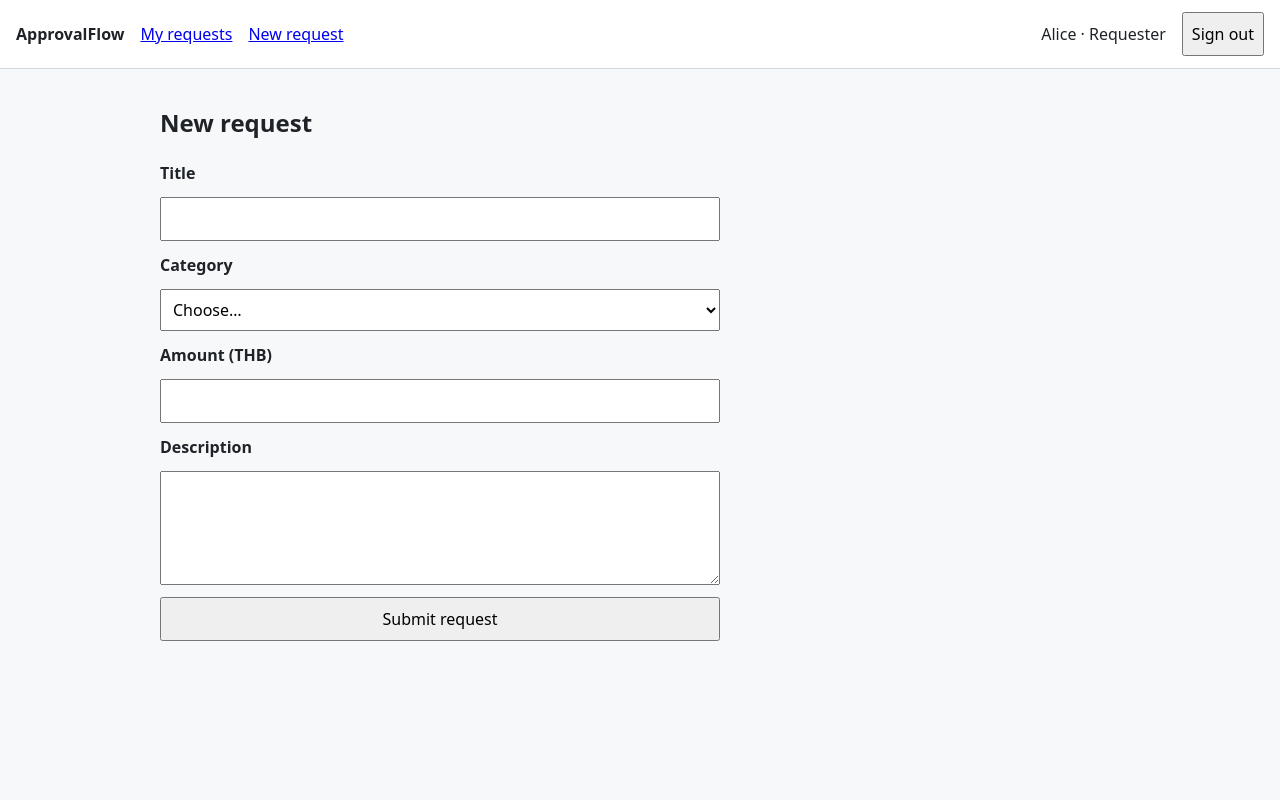
Test: App session edge cases (F-01 v2) › returns to the login page when a page's API call answers 401
Type "Conference travel" into the field labelled "Title" at (440,219), box [160, 197, 720, 241]
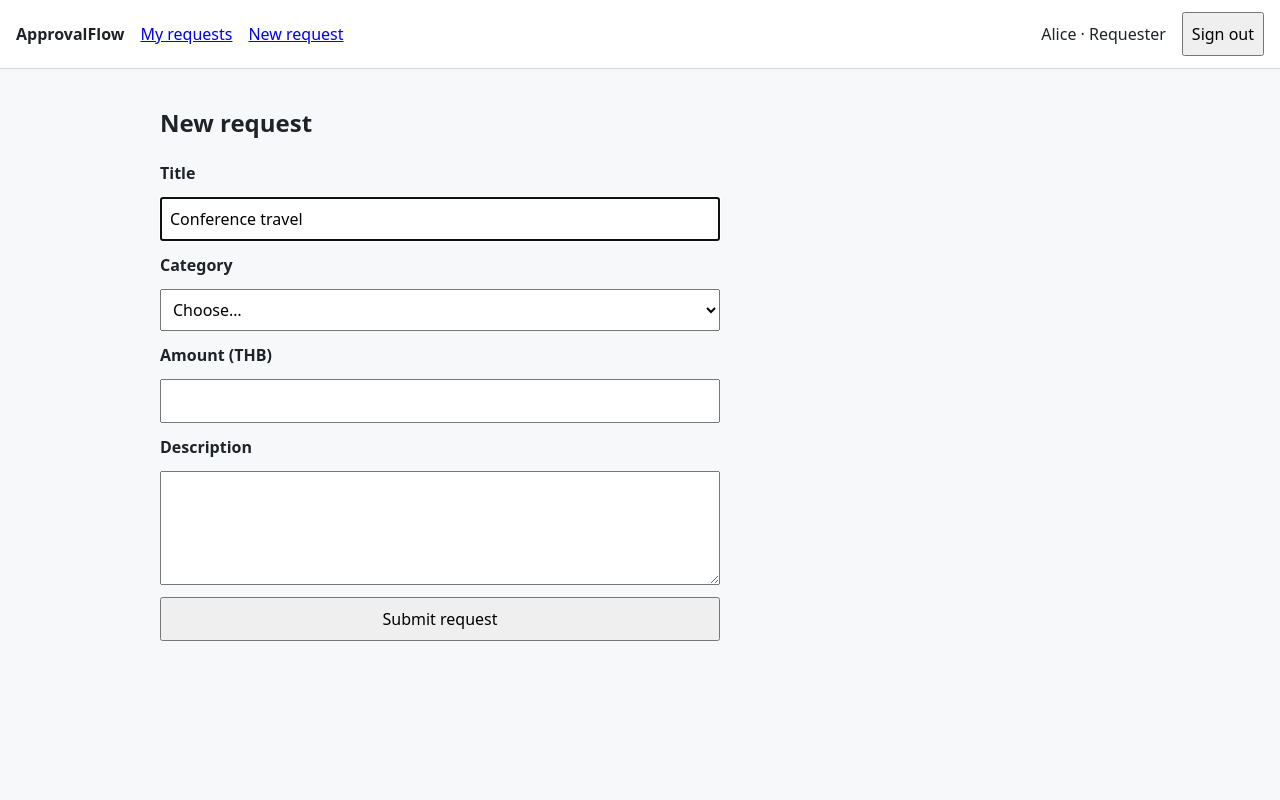
Select "Travel" in the dropdown labelled "Category" at (440,310), box [160, 289, 720, 331]
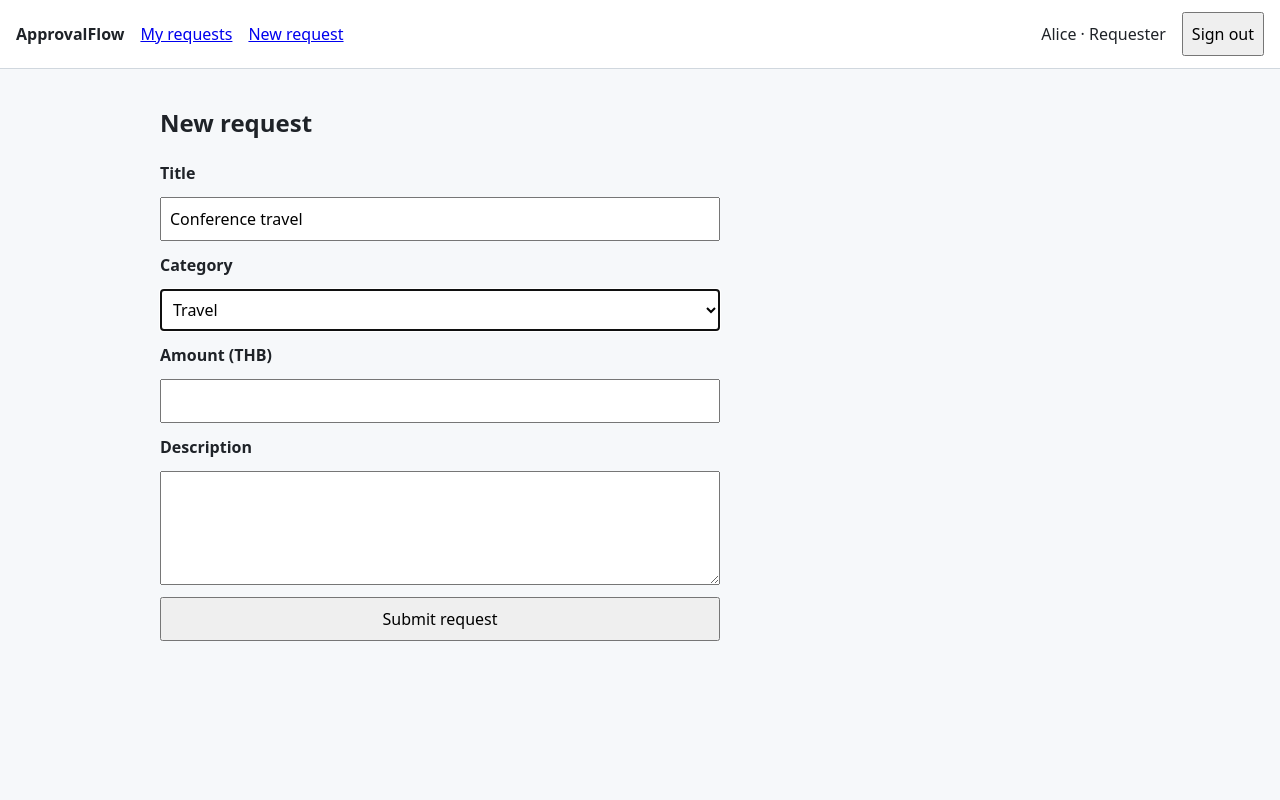
Type "1500" into the number field labelled "Amount (THB)" at (440,401), box [160, 379, 720, 423]
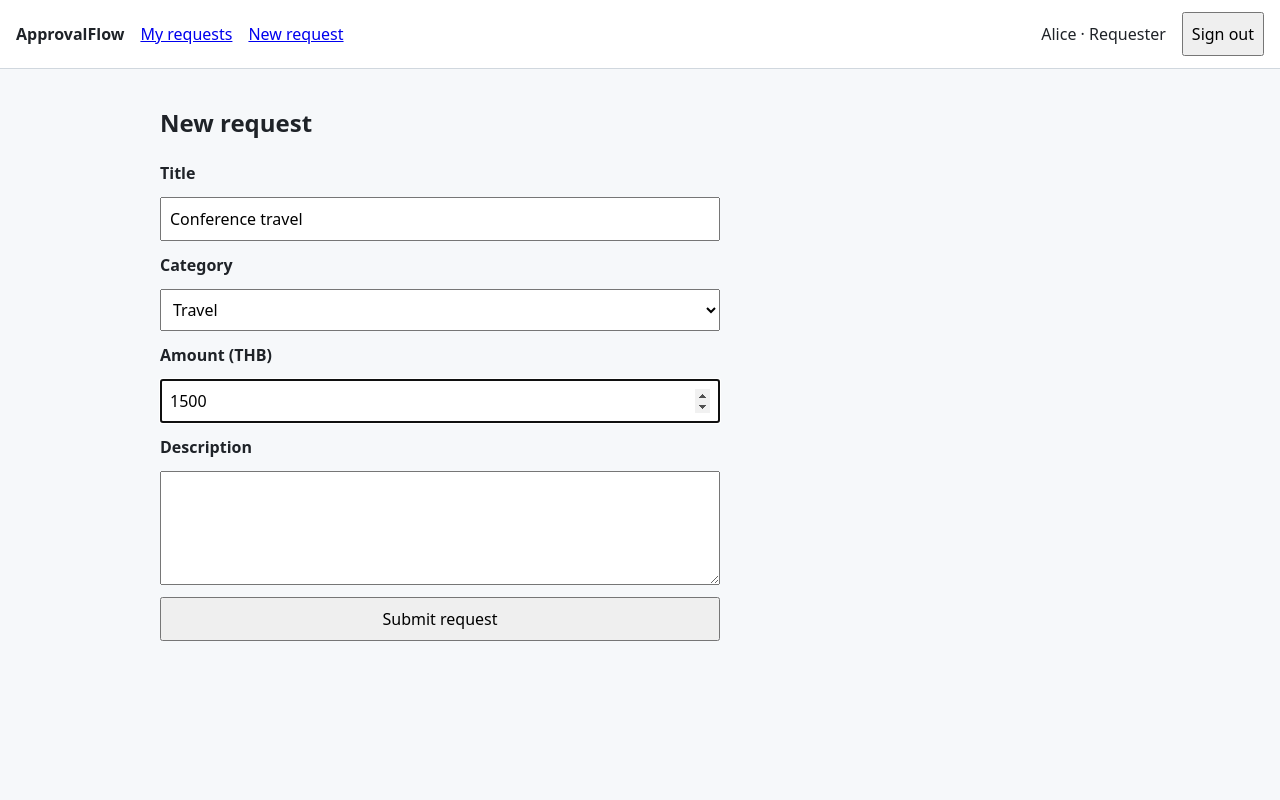
Type "Train tickets" into the text box labelled "Description" at (440,528), box [160, 471, 720, 585]
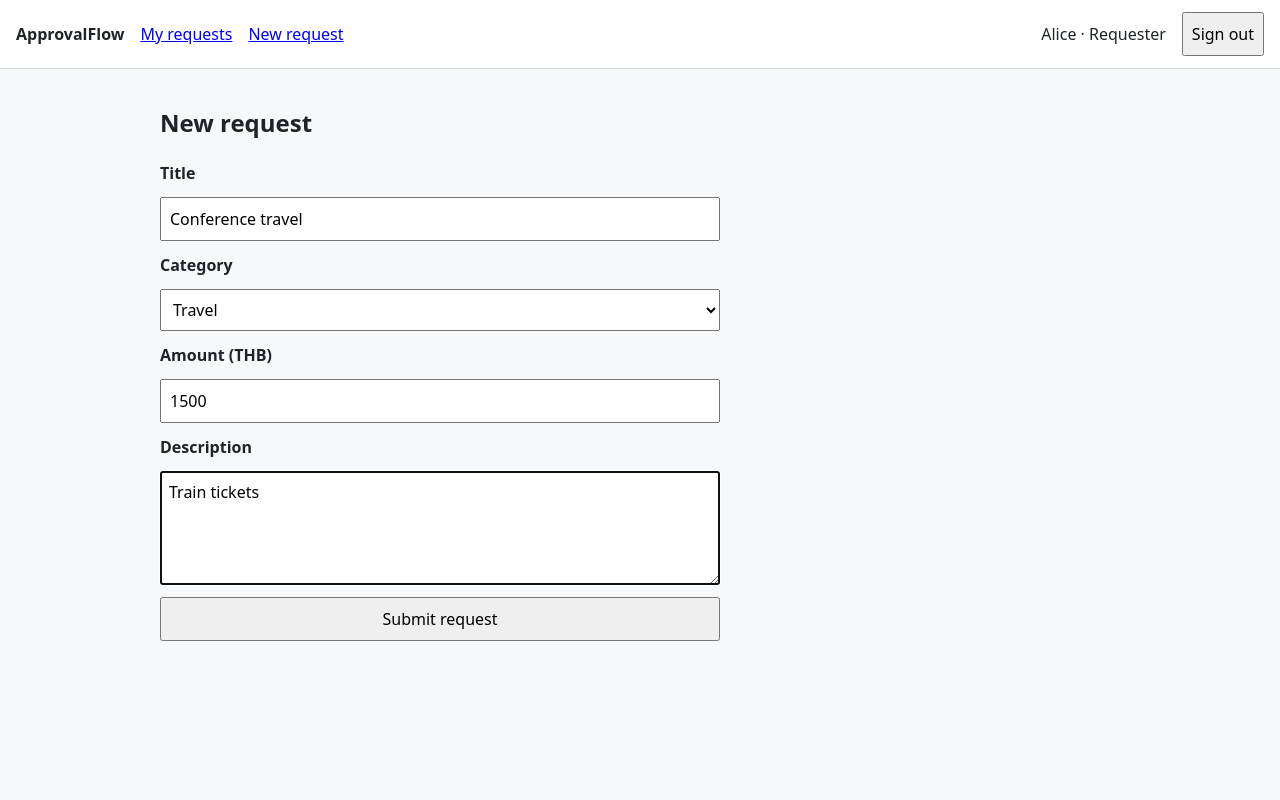
Click the button "Submit request" at (440,619), box [160, 597, 720, 641]
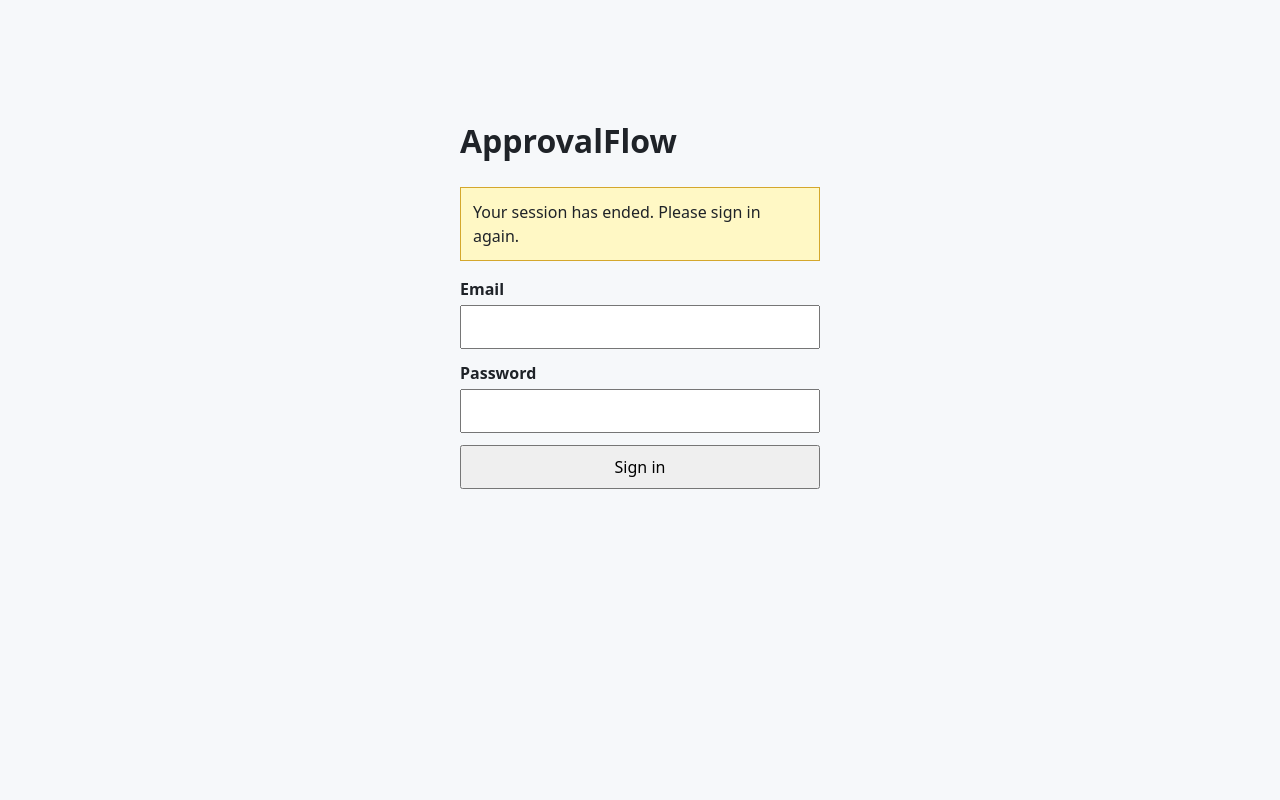
Now the button "Sign in" is shown, box [460, 445, 820, 489]
Now the text "Your session has ended. Please sign in again." is shown, box [460, 187, 820, 261]
Now the text "Alice" is gone
